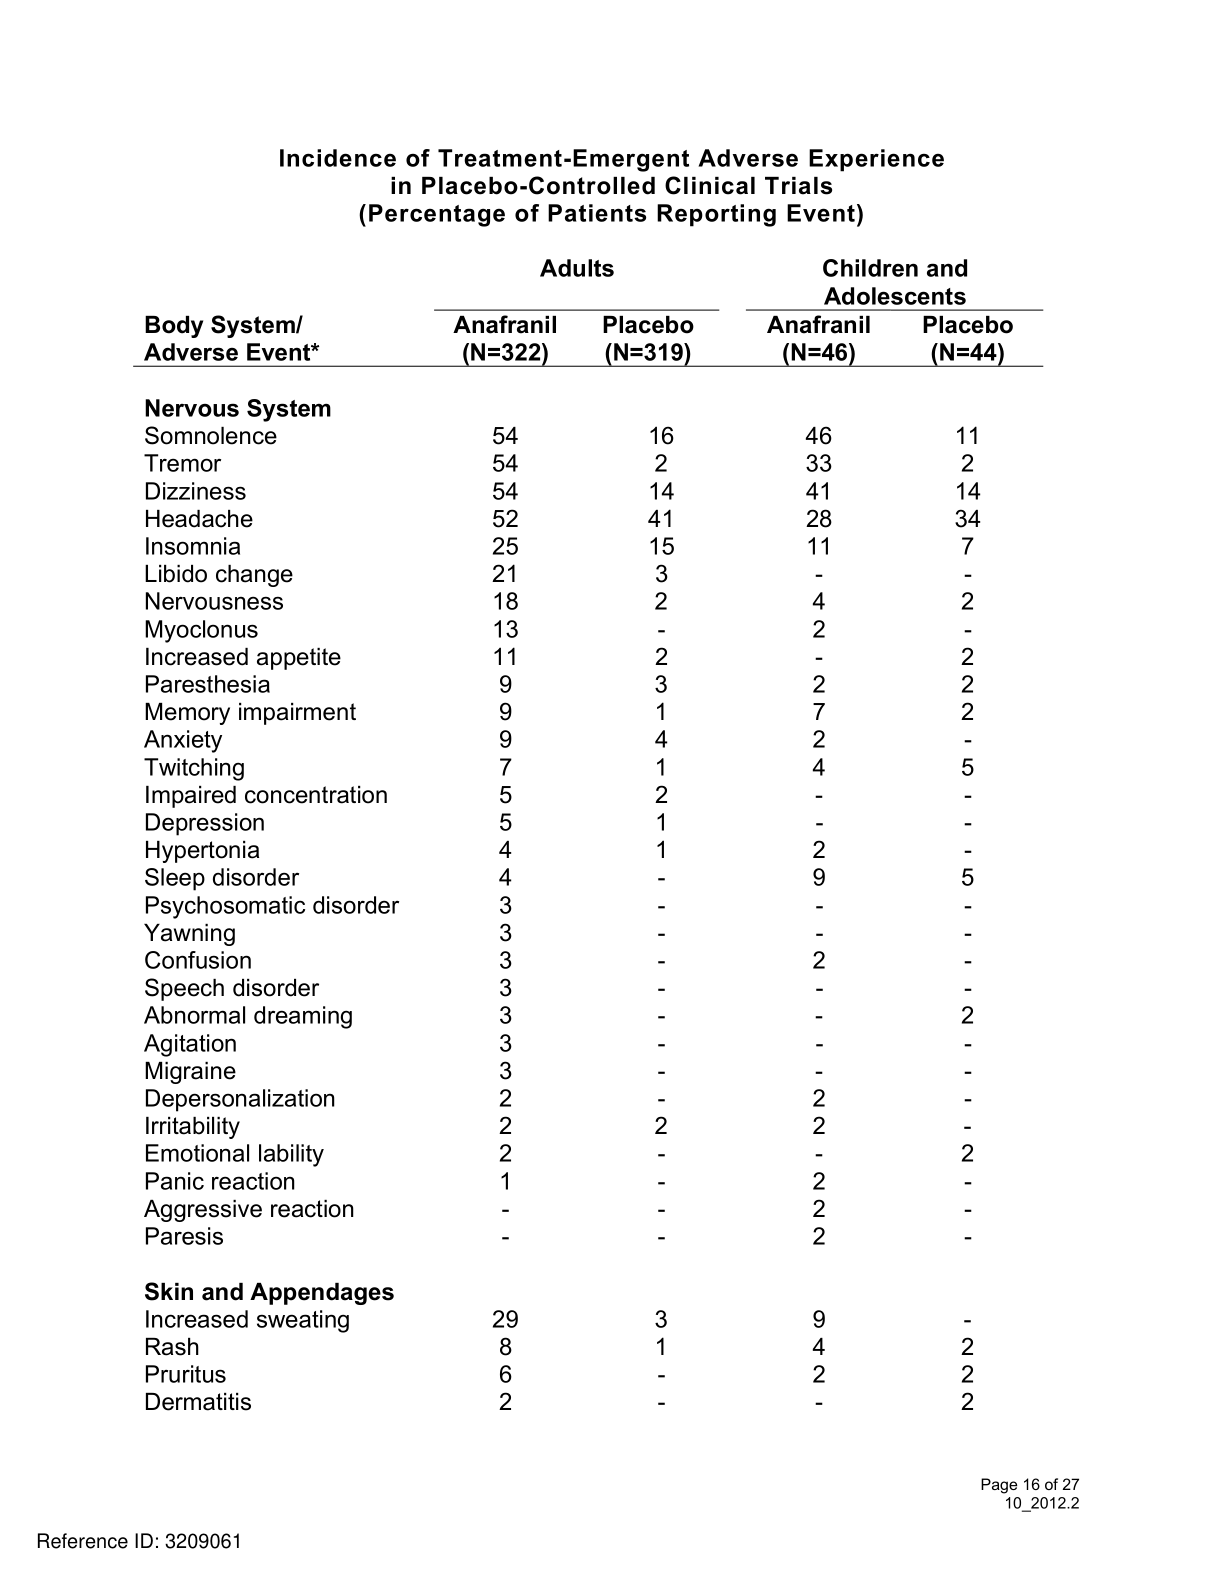partial_lined_merged_cells: (127, 252, 1048, 1419)
